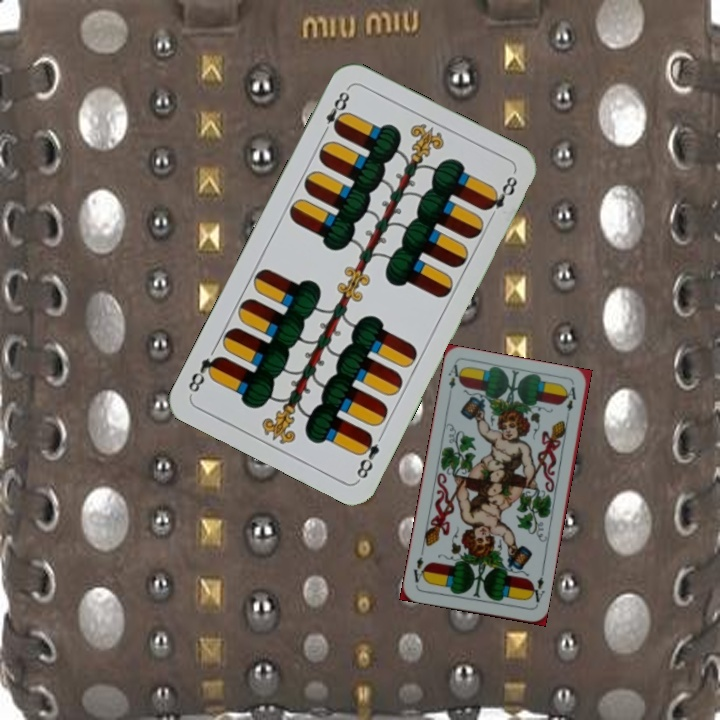E8: (318, 84, 352, 139), (352, 429, 382, 483)
EA: (526, 568, 547, 605), (444, 360, 465, 391)
